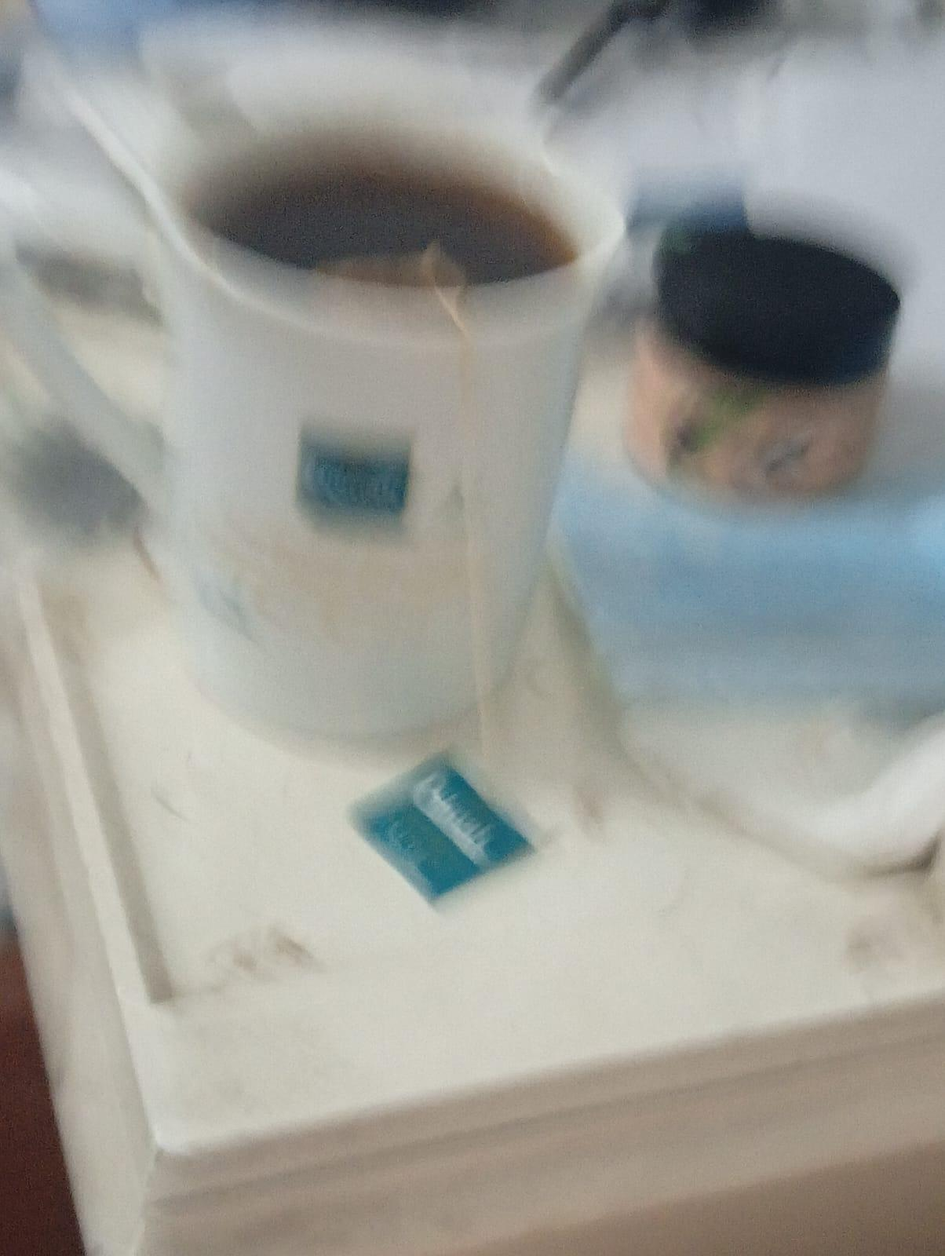cup: (0, 66, 624, 739)
